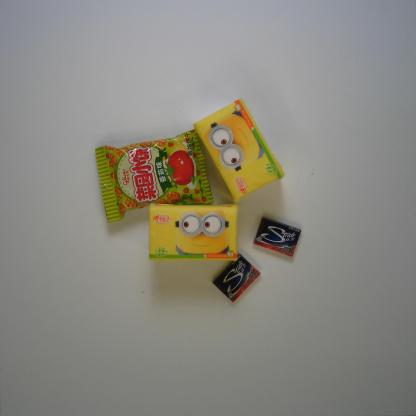Gum: (212, 252, 261, 304), (253, 216, 302, 258)
Puffed Food: (94, 128, 215, 224)
Tissue: (192, 96, 286, 205), (148, 202, 238, 262)
